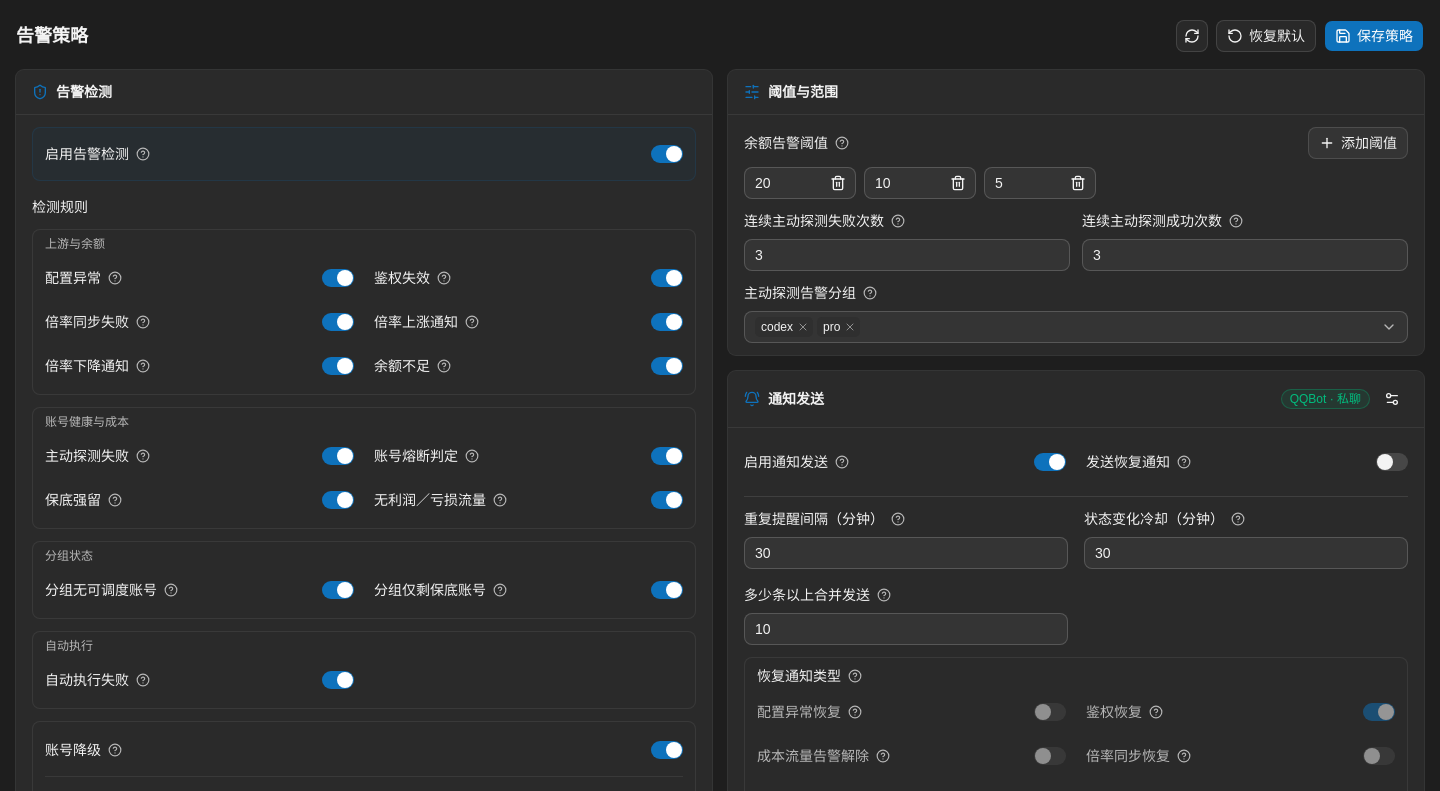
Test case: 修改后恢复默认会保留默认草稿，后台成功刷新不覆盖恢复的值
The image size is (1440, 791).
Replace the text in the number field labelled "重复提醒间隔（分钟）" with "15": x=906, y=553 [744, 537, 1068, 569]
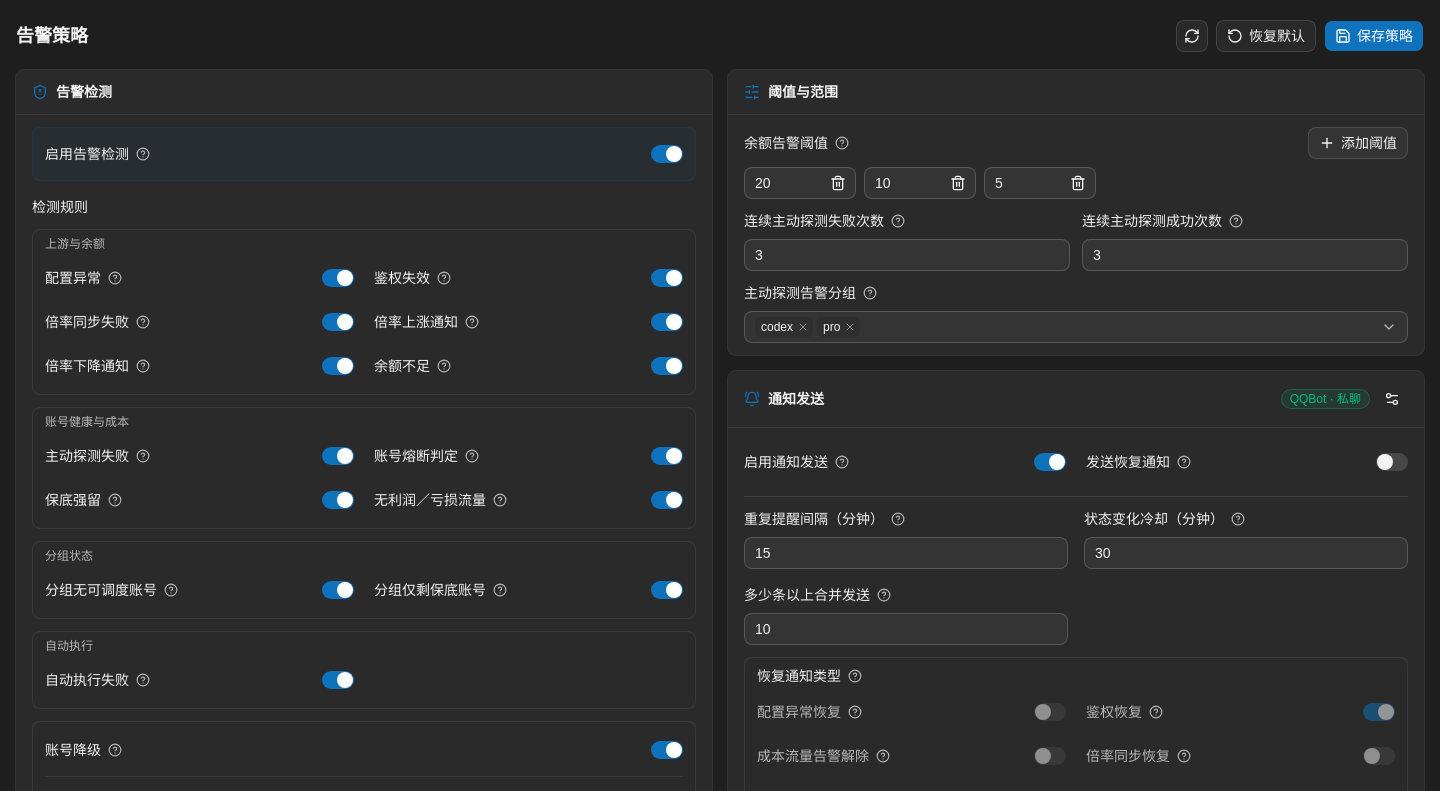
Click the button "恢复默认": x=1266, y=36 [1216, 20, 1316, 52]
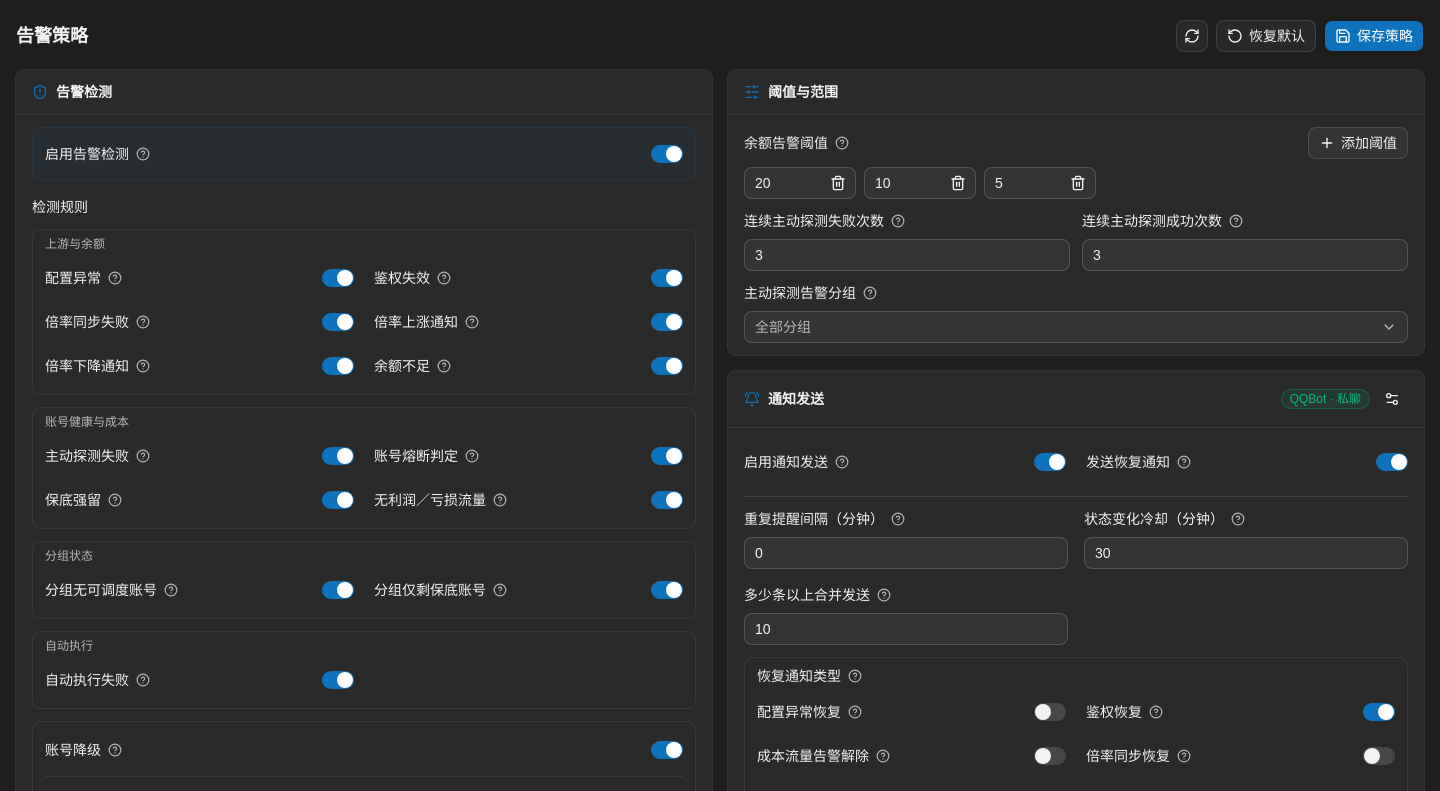
Expected: the button "保存策略" is enabled, [1324, 20, 1424, 52]
Expected: the number field labelled "重复提醒间隔（分钟）" holds "0", [744, 537, 1068, 569]
